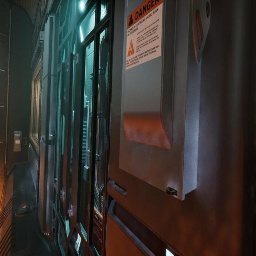EmergencyPhone ,: (23, 135, 27, 145)
SafetySwitchPanel ,: (119, 0, 211, 201), (14, 131, 22, 152)
